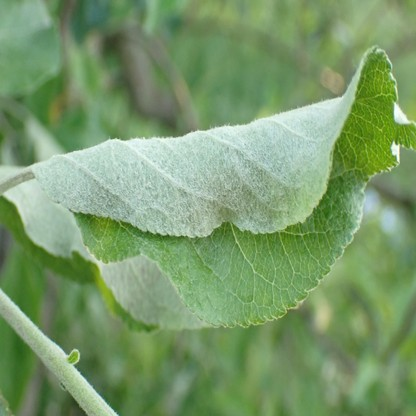powder: (33, 46, 368, 237), (335, 189, 365, 243), (127, 232, 160, 256)
